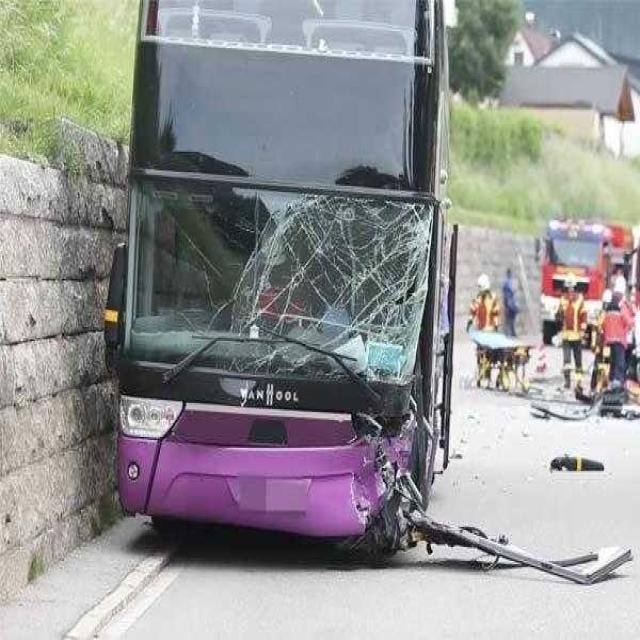Bus: (114, 0, 455, 548)
